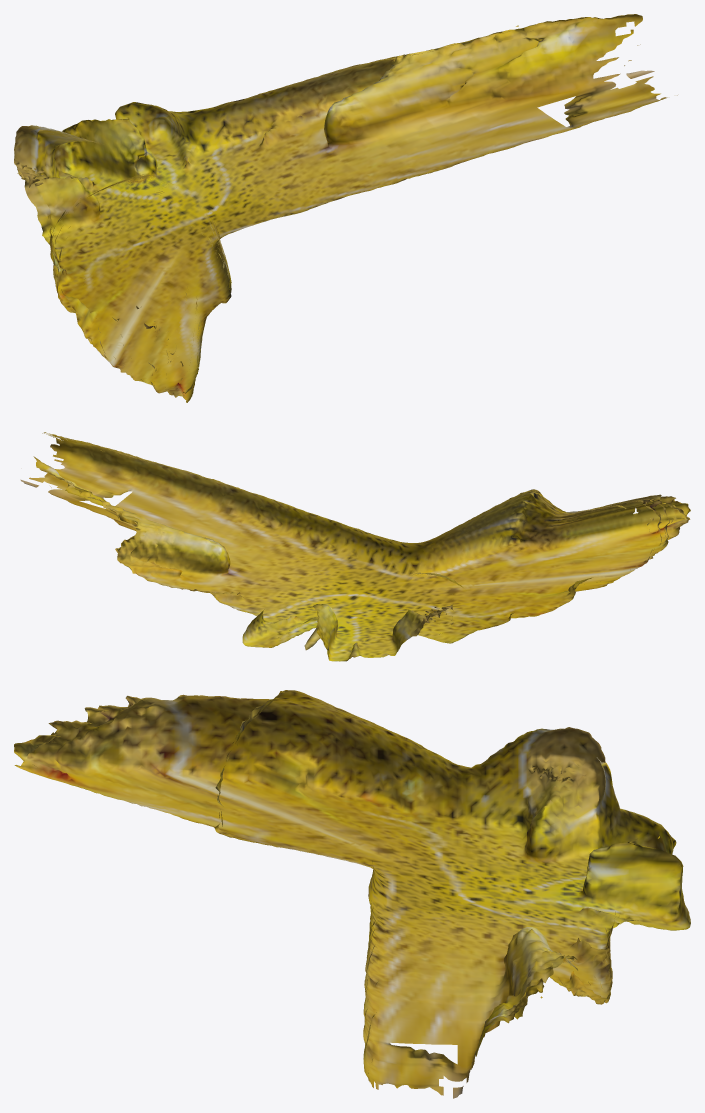
Rendered from yellow-infinity-room-collider.glb.
3 renders of one model, top to bottom at view 1: azimuth 30°, elevation 25°; view 2: azimuth 150°, elevation 25°; view 3: azimuth 270°, elevation 25°, orthographic. The views are drawn at different scales.
Parts seen in each view (by area): view 1: world; view 2: world; view 3: world.
Part boxes in pixels (x1=…): world: x1=14, y1=14, x2=677, y2=402; world: x1=20, y1=432, x2=690, y2=661; world: x1=14, y1=690, x2=690, y2=1098.
Size of the model in its own units: 15.9 by 2.66 by 12.06.
